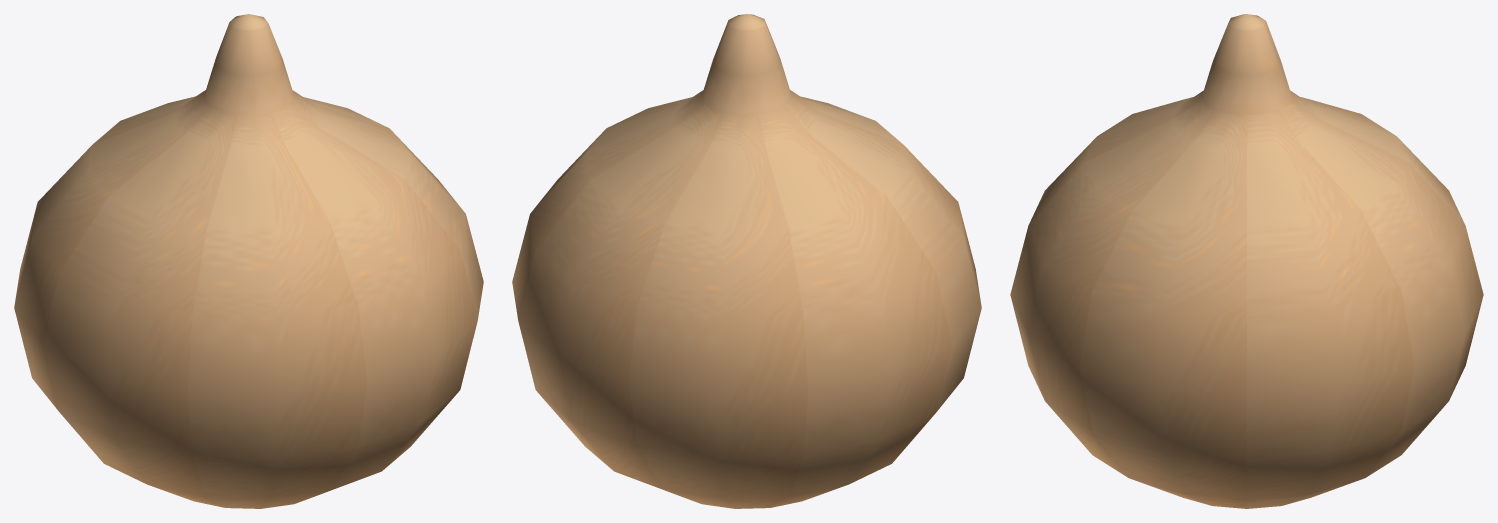
Rendered from food_ingredient_onion.gltf.
The picture shows the model from 3 angles, left to right: view 1: azimuth 30°, elevation 25°; view 2: azimuth 150°, elevation 25°; view 3: azimuth 270°, elevation 25°; orthographic projection.
Visible parts, largest first — view 1: food_ingredient_onion; view 2: food_ingredient_onion; view 3: food_ingredient_onion.
Part boxes in pixels (<box>): food_ingredient_onion: <box>14,14,483,508</box>; food_ingredient_onion: <box>512,14,981,508</box>; food_ingredient_onion: <box>1010,14,1483,508</box>.
Bounding box in the file's own units: 0.75 × 0.8624 × 0.75.
Materials: 1 (1 with a texture image).
